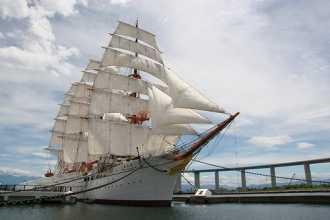fanchuan: (44, 13, 241, 202)
